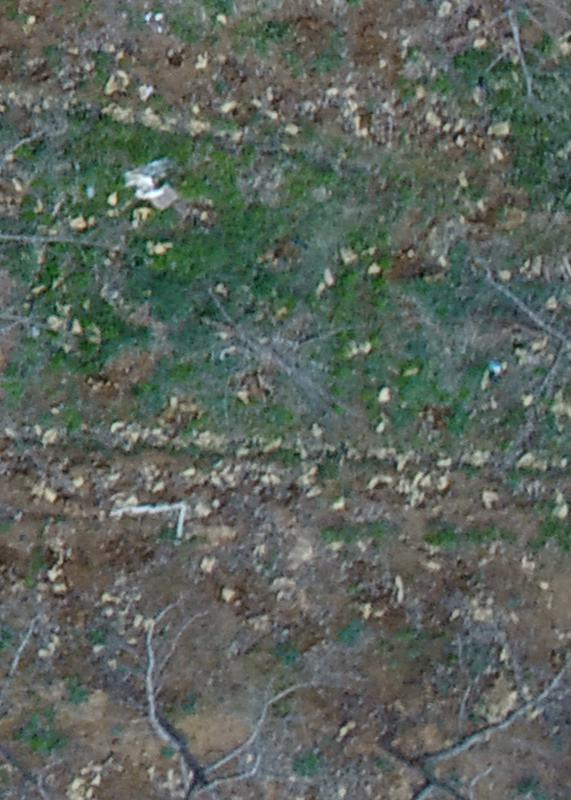apple: (100, 593, 285, 790), (169, 261, 385, 411), (325, 649, 553, 790)
